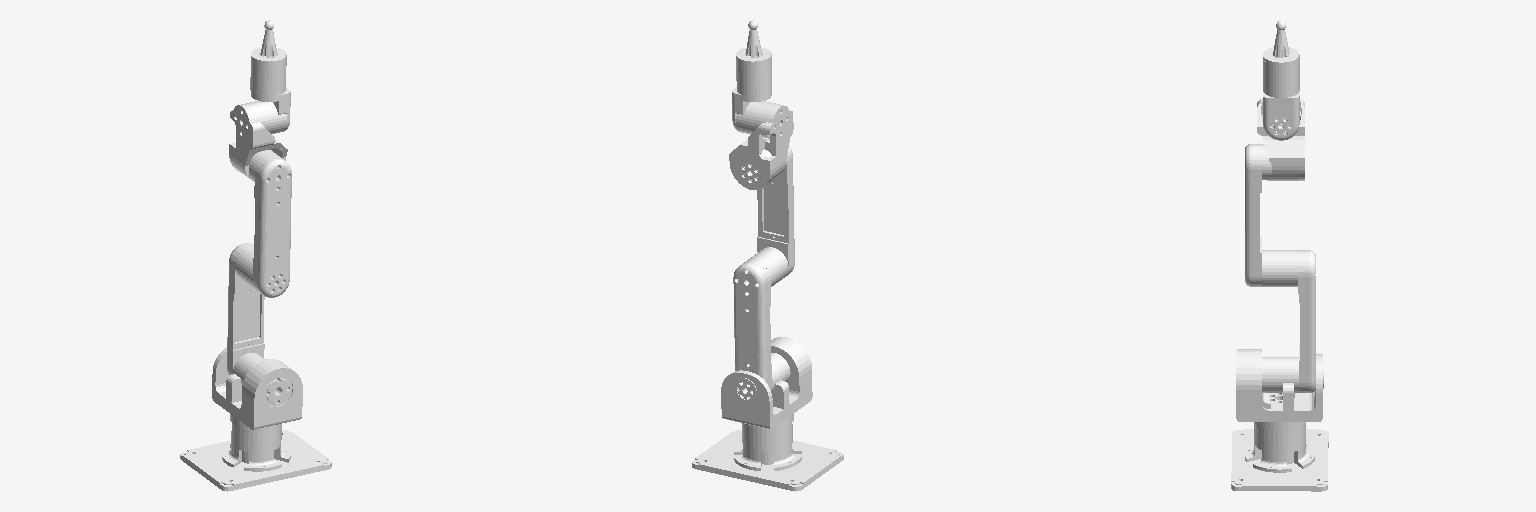
The robot description file, URDF, robot "miku_arm":
<?xml version="1.0" encoding="utf-8" ?>
<!-- This URDF was automatically created by SolidWorks to URDF Exporter! Originally created by Stephen Brawner (brawner@gmail.com) 
     Commit Version: 1.6.0-4-g7f85cfe  Build Version: 1.6.7995.38578
     For more information, please see http://wiki.ros.org/sw_urdf_exporter -->
<robot name="miku_arm">
    <link name="base_link">
        <inertial>
            <origin xyz="0.010645 -0.010486 1.5689E-05" rpy="0 0 0" />
            <mass value="0.00001" />
            <inertia ixx="10" ixy="0" ixz="0" iyy="0" iyz="0" izz="10" />
        </inertial>
        <visual>
            <origin xyz="0 0 0" rpy="0 0 0" />
            <geometry>
                <mesh filename="package://miku_arm/meshes/base_link.STL" />
            </geometry>
            <material name="">
                <color rgba="1 1 1 1" />
            </material>
        </visual>
        <collision>
            <origin xyz="0 0 0" rpy="0 0 0" />
            <geometry>
                <mesh filename="package://miku_arm/meshes/base_link.STL" />
            </geometry>
        </collision>
    </link>
    <link name="world" />
    <joint name="world_joint" type="fixed">
        <origin xyz="0 0 0.05" rpy="0 0 0" />
        <!-- Place the robot wherever you want -->
        <parent link="world" />
        <child link="base_link" />
        <!-- replace this name with your robot's base link -->
    </joint>
    <link name="link_1">
        <inertial>
            <origin xyz="0.010197 0.067289 0.00068246" rpy="0 0 0" />
            <mass value="0.00001" />
            <inertia ixx="10" ixy="0" ixz="0" iyy="0" iyz="0" izz="10" />
        </inertial>
        <visual>
            <origin xyz="0 0 0" rpy="0 0 0" />
            <geometry>
                <mesh filename="package://miku_arm/meshes/link_1.STL" />
            </geometry>
            <material name="">
                <color rgba="1 1 1 1" />
            </material>
        </visual>
        <collision>
            <origin xyz="0 0 0" rpy="0 0 0" />
            <geometry>
                <mesh filename="package://miku_arm/meshes/link_1.STL" />
            </geometry>
        </collision>
    </link>
    <joint name="joint_1" type="revolute">
        <origin xyz="0.011371 -3.9704E-05 0.025603" rpy="1.5507 0.00054808 -1.5767" />
        <parent link="base_link" />
        <child link="link_1" />
        <axis xyz="0 1 0" />
        <limit lower="-2.3562" upper="2.3562" effort="100" velocity="2" />
    </joint>
    <link name="link_2">
        <inertial>
            <origin xyz="0.11068 0.034869 1.069E-08" rpy="0 0 0" />
            <mass value="0.00001" />
            <inertia ixx="10" ixy="0" ixz="0" iyy="0" iyz="0" izz="10" />
        </inertial>
        <visual>
            <origin xyz="0 0 0" rpy="0 0 0" />
            <geometry>
                <mesh filename="package://miku_arm/meshes/link_2.STL" />
            </geometry>
            <material name="">
                <color rgba="1 1 1 1" />
            </material>
        </visual>
        <collision>
            <origin xyz="0 0 0" rpy="0 0 0" />
            <geometry>
                <mesh filename="package://miku_arm/meshes/link_2.STL" />
            </geometry>
        </collision>
    </link>
    <joint name="joint_2" type="revolute">
        <origin xyz="0 0.08788 0" rpy="0 0 1.5708" />
        <parent link="link_1" />
        <child link="link_2" />
        <axis xyz="0 1 0" />
        <limit lower="-1.5708" upper="1.5708" effort="100" velocity="2" />
    </joint>
    <link name="link_3">
        <inertial>
            <origin xyz="0.110053650868383 0.0335164692750554 1.94705920449068E-08" rpy="0 0 0" />
            <mass value="0.00001" />
            <inertia ixx="10" ixy="0" ixz="0" iyy="0" iyz="0" izz="10" />
        </inertial>
        <visual>
            <origin xyz="0 0 0" rpy="0 0 0" />
            <geometry>
                <mesh filename="package://miku_arm/meshes/link_3.STL" />
            </geometry>
            <material name="">
                <color rgba="1 1 1 1" />
            </material>
        </visual>
        <collision>
            <origin xyz="0 0 0" rpy="0 0 0" />
            <geometry>
                <mesh filename="package://miku_arm/meshes/link_3.STL" />
            </geometry>
        </collision>
    </link>
    <joint name="joint_3" type="revolute">
        <origin xyz="0.184 0 0" rpy="3.1416 0 0" />
        <parent link="link_2" />
        <child link="link_3" />
        <axis xyz="0 1 0" />
        <limit lower="-1.5708" upper="1.5708" effort="100" velocity="2" />
    </joint>
    <link name="link_4">
        <inertial>
            <origin xyz="0.049628 -0.0075971 0.0074952" rpy="0 0 0" />
            <mass value="0.00001" />
            <inertia ixx="10" ixy="0" ixz="0" iyy="0" iyz="0" izz="10" />
        </inertial>
        <visual>
            <origin xyz="0 0 0" rpy="0 0 0" />
            <geometry>
                <mesh filename="package://miku_arm/meshes/link_4.STL" />
            </geometry>
            <material name="">
                <color rgba="1 1 1 1" />
            </material>
        </visual>
        <collision>
            <origin xyz="0 0 0" rpy="0 0 0" />
            <geometry>
                <mesh filename="package://miku_arm/meshes/link_4.STL" />
            </geometry>
        </collision>
    </link>
    <joint name="joint_4" type="revolute">
        <origin xyz="0.184 0 0" rpy="1.5708 0 0" />
        <parent link="link_3" />
        <child link="link_4" />
        <axis xyz="0 0 1" />
        <limit lower="-1.5708" upper="1.5708" effort="100" velocity="2" />
    </joint>
    <link name="link_5">
        <inertial>
            <origin xyz="-0.0603 -0.014918 -1.3904E-09" rpy="0 0 0" />
            <mass value="0.00001" />
            <inertia ixx="10" ixy="0" ixz="0" iyy="0" iyz="0" izz="10" />
        </inertial>
        <visual>
            <origin xyz="0 0 0" rpy="0 0 0" />
            <geometry>
                <mesh filename="package://miku_arm/meshes/link_5.STL" />
            </geometry>
            <material name="">
                <color rgba="1 1 1 1" />
            </material>
        </visual>
        <collision>
            <origin xyz="0 0 0" rpy="0 0 0" />
            <geometry>
                <mesh filename="package://miku_arm/meshes/link_5.STL" />
            </geometry>
        </collision>
    </link>
    <joint name="joint_5" type="revolute">
        <origin xyz="0.0815 0 0.0025" rpy="0 0 -3.1416" />
        <parent link="link_4" />
        <child link="link_5" />
        <axis xyz="0 -1 0" />
        <limit lower="-1.5708" upper="1.5708" effort="100" velocity="2" />
    </joint>
    <link name="link_6">
        <inertial>
            <origin xyz="-1.5722E-10 0.016911 -1.5926E-10" rpy="0 0 0" />
            <mass value="0.00001" />
            <inertia ixx="10" ixy="0" ixz="0" iyy="0" iyz="0" izz="10" />
        </inertial>
        <visual>
            <origin xyz="0 0 0" rpy="0 0 0" />
            <geometry>
                <mesh filename="package://miku_arm/meshes/link_6.STL" />
            </geometry>
            <material name="">
                <color rgba="1 1 1 1" />
            </material>
        </visual>
        <collision>
            <origin xyz="0 0 0" rpy="0 0 0" />
            <geometry>
                <mesh filename="package://miku_arm/meshes/link_6.STL" />
            </geometry>
        </collision>
    </link>
    <joint name="joint_6" type="revolute">
        <origin xyz="-0.10372 -0.0105 0" rpy="-3.1416 0.11723 -1.5708" />
        <parent link="link_5" />
        <child link="link_6" />
        <axis xyz="0 1 0" />
        <limit lower="-2.3562" upper="2.3562" effort="100" velocity="2" />
    </joint>
    <transmission name="trans_joint_1">
        <type>transmission_interface/SimpleTransmission</type>
        <joint name="joint_1">
            <hardwareInterface>hardware_interface/EffortJointInterface</hardwareInterface>
        </joint>
        <actuator name="joint_1_motor">
            <hardwareInterface>hardware_interface/EffortJointInterface</hardwareInterface>
            <mechanicalReduction>1</mechanicalReduction>
        </actuator>
    </transmission>
    <transmission name="trans_joint_2">
        <type>transmission_interface/SimpleTransmission</type>
        <joint name="joint_2">
            <hardwareInterface>hardware_interface/EffortJointInterface</hardwareInterface>
        </joint>
        <actuator name="joint_2_motor">
            <hardwareInterface>hardware_interface/EffortJointInterface</hardwareInterface>
            <mechanicalReduction>1</mechanicalReduction>
        </actuator>
    </transmission>
    <transmission name="trans_joint_3">
        <type>transmission_interface/SimpleTransmission</type>
        <joint name="joint_3">
            <hardwareInterface>hardware_interface/EffortJointInterface</hardwareInterface>
        </joint>
        <actuator name="joint_3_motor">
            <hardwareInterface>hardware_interface/EffortJointInterface</hardwareInterface>
            <mechanicalReduction>1</mechanicalReduction>
        </actuator>
    </transmission>
    <transmission name="trans_joint_4">
        <type>transmission_interface/SimpleTransmission</type>
        <joint name="joint_4">
            <hardwareInterface>hardware_interface/EffortJointInterface</hardwareInterface>
        </joint>
        <actuator name="joint_4_motor">
            <hardwareInterface>hardware_interface/EffortJointInterface</hardwareInterface>
            <mechanicalReduction>1</mechanicalReduction>
        </actuator>
    </transmission>
    <transmission name="trans_joint_5">
        <type>transmission_interface/SimpleTransmission</type>
        <joint name="joint_5">
            <hardwareInterface>hardware_interface/EffortJointInterface</hardwareInterface>
        </joint>
        <actuator name="joint_5_motor">
            <hardwareInterface>hardware_interface/EffortJointInterface</hardwareInterface>
            <mechanicalReduction>1</mechanicalReduction>
        </actuator>
    </transmission>
    <transmission name="trans_joint_6">
        <type>transmission_interface/SimpleTransmission</type>
        <joint name="joint_6">
            <hardwareInterface>hardware_interface/EffortJointInterface</hardwareInterface>
        </joint>
        <actuator name="joint_6_motor">
            <hardwareInterface>hardware_interface/EffortJointInterface</hardwareInterface>
            <mechanicalReduction>1</mechanicalReduction>
        </actuator>
    </transmission>
    <gazebo>
        <plugin name="gazebo_ros_control" filename="libgazebo_ros_control.so">
            <robotNamespace>/</robotNamespace>
        </plugin>
    </gazebo>
</robot>

--- Facts derived from the render (not from the file) ---
The picture shows the robot from 3 angles, left to right: view 1: azimuth 30°, elevation 25°; view 2: azimuth 150°, elevation 25°; view 3: azimuth 270°, elevation 25°; orthographic projection.
Robot: miku_arm — 8 links, 7 joints (6 revolute, 1 fixed); root link world; default pose: all joints at 0.
Visible links, largest first — view 1: base_link, link_1, link_3, link_2, link_4, link_5, link_6; view 2: base_link, link_1, link_2, link_4, link_3, link_5, link_6; view 3: base_link, link_1, link_2, link_3, link_5, link_4, link_6.
Boxes of the visible links, bbox=[...] form: base_link: bbox=[180, 414, 331, 491]; link_1: bbox=[212, 347, 302, 429]; link_3: bbox=[240, 150, 291, 297]; link_2: bbox=[227, 243, 264, 375]; link_4: bbox=[229, 101, 287, 175]; link_5: bbox=[250, 58, 290, 131]; link_6: bbox=[251, 20, 286, 63]; base_link: bbox=[692, 414, 843, 491]; link_1: bbox=[721, 337, 812, 428]; link_2: bbox=[733, 247, 788, 399]; link_4: bbox=[729, 101, 793, 189]; link_3: bbox=[751, 146, 794, 275]; link_5: bbox=[732, 58, 771, 131]; link_6: bbox=[736, 20, 771, 63]; base_link: bbox=[1231, 422, 1328, 491]; link_1: bbox=[1236, 349, 1323, 421]; link_2: bbox=[1262, 250, 1315, 392]; link_3: bbox=[1245, 144, 1297, 286]; link_5: bbox=[1263, 58, 1299, 140]; link_4: bbox=[1257, 99, 1304, 180]; link_6: bbox=[1263, 21, 1299, 64].
Bounding box of the posed robot: 0.2009 × 0.1511 × 0.7716 m (x, y, z).
Meshes: 7 distinct files referenced, 7 mesh visuals loaded (7 binary STL).
